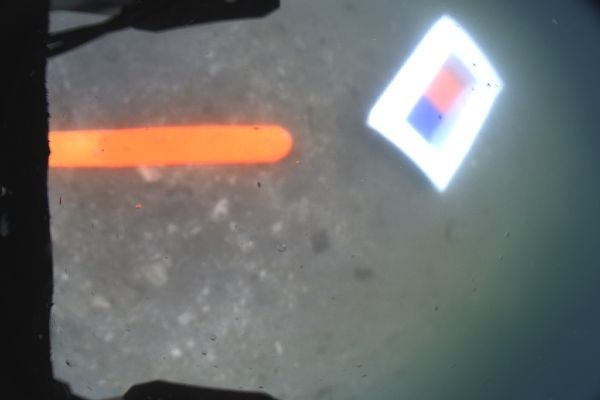bin: (366, 15, 502, 192)
bin_bleue: (407, 96, 441, 140)
bin_rouge: (424, 66, 462, 114)
path: (48, 124, 292, 166)
